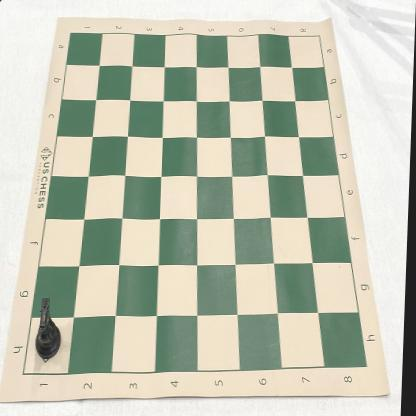black-knight: (38, 298, 65, 360)
